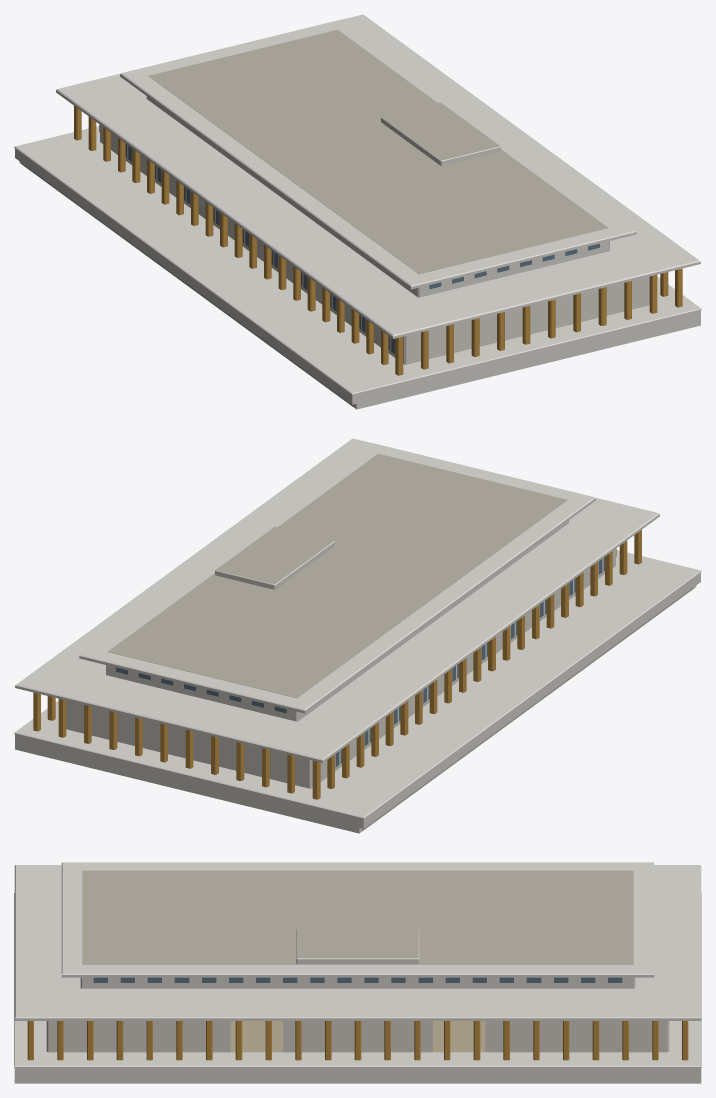
3 views of the same model, one above another, from view 1: azimuth 30°, elevation 25°; view 2: azimuth 150°, elevation 25°; view 3: azimuth 270°, elevation 25° (orthographic).
Visible parts, largest first — view 1: john-f-kennedy-center-for-the-performing-arts; view 2: john-f-kennedy-center-for-the-performing-arts; view 3: john-f-kennedy-center-for-the-performing-arts.
Part boxes in pixels (bbox=[...]): john-f-kennedy-center-for-the-performing-arts: bbox=[14, 14, 701, 409]; john-f-kennedy-center-for-the-performing-arts: bbox=[14, 438, 701, 833]; john-f-kennedy-center-for-the-performing-arts: bbox=[14, 862, 701, 1083].
Bounding box in the file's own units: 126 × 32 × 211.
